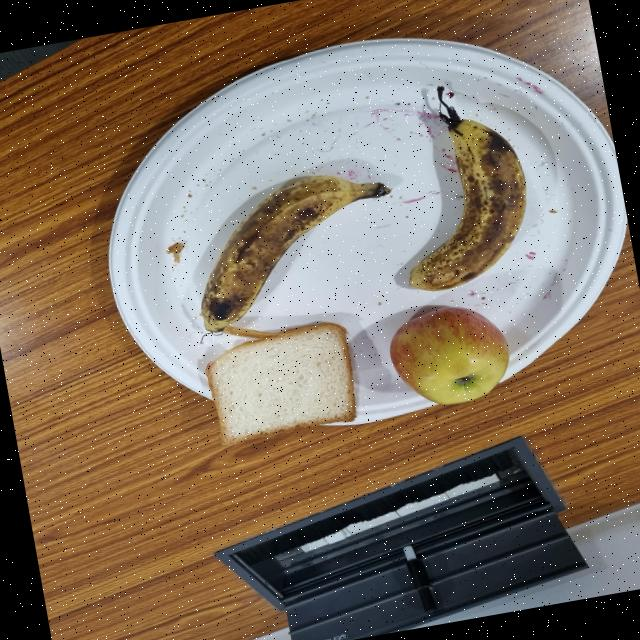apple: (320, 434, 448, 530)
banana: (437, 285, 636, 420), (469, 434, 640, 527)
